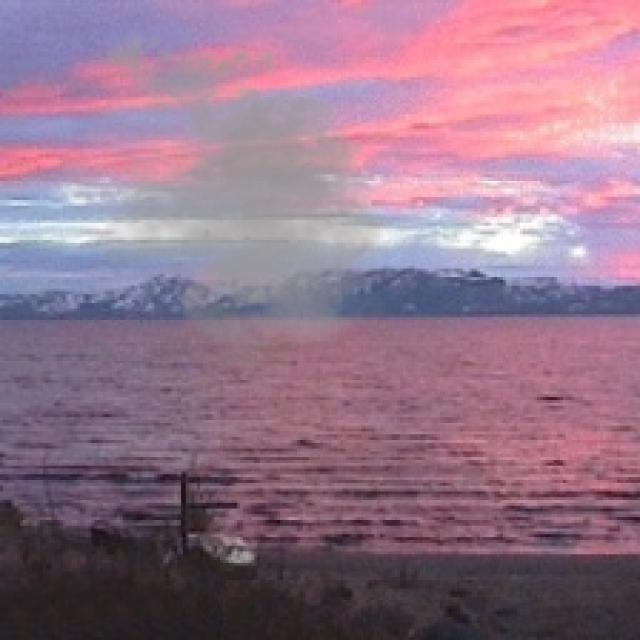Smoke: (42, 26, 412, 374)
